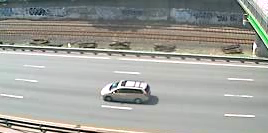car: (98, 78, 157, 106)
